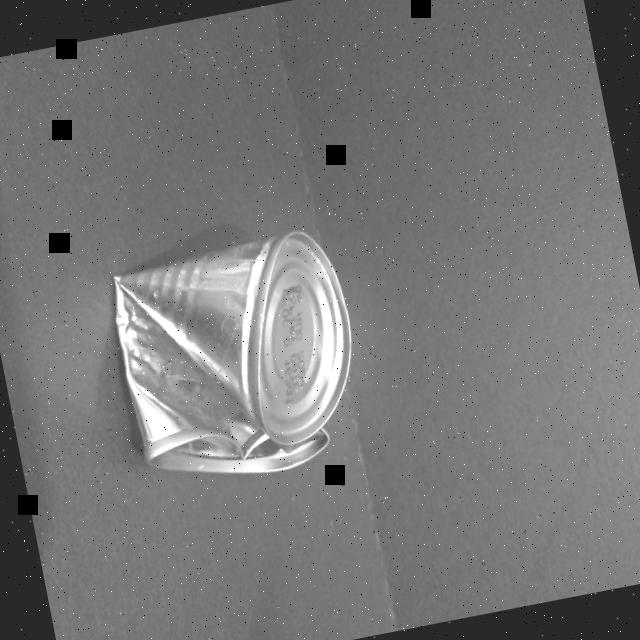can: (98, 217, 382, 503)
